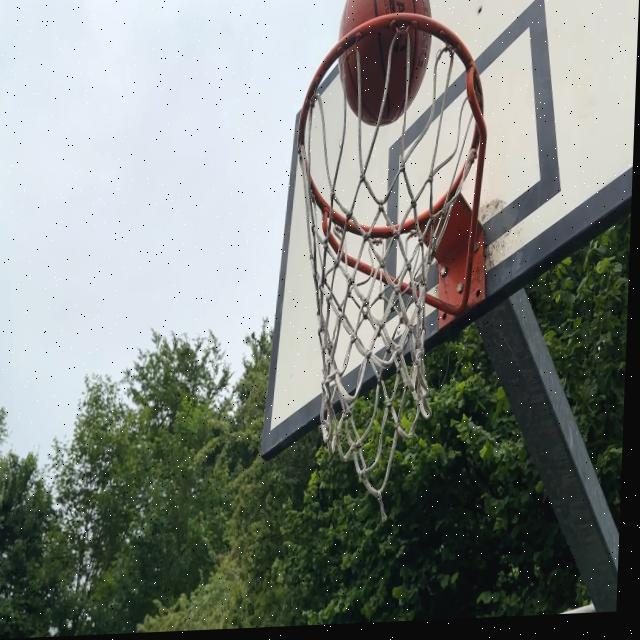rebound_hit: (337, 0, 432, 126)
